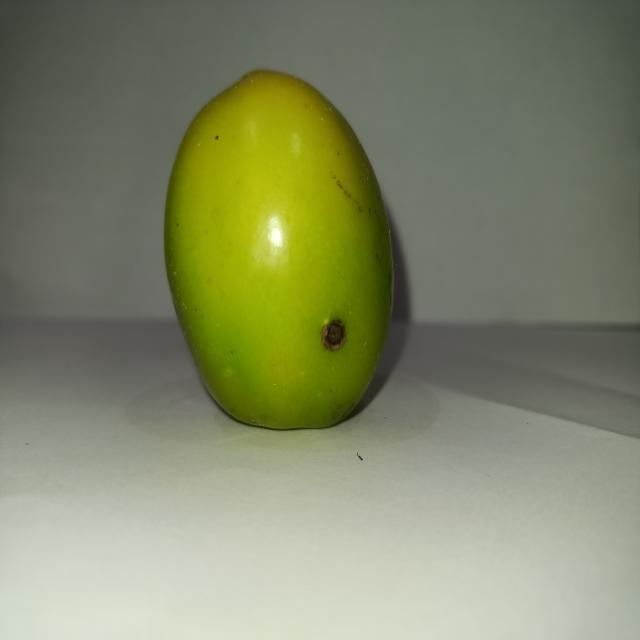Red: (162, 67, 395, 431)
